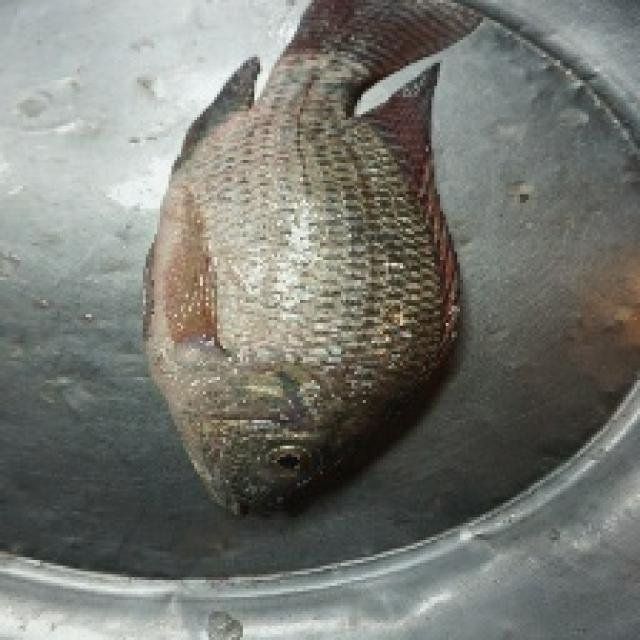Fresh: (142, 31, 475, 527)
